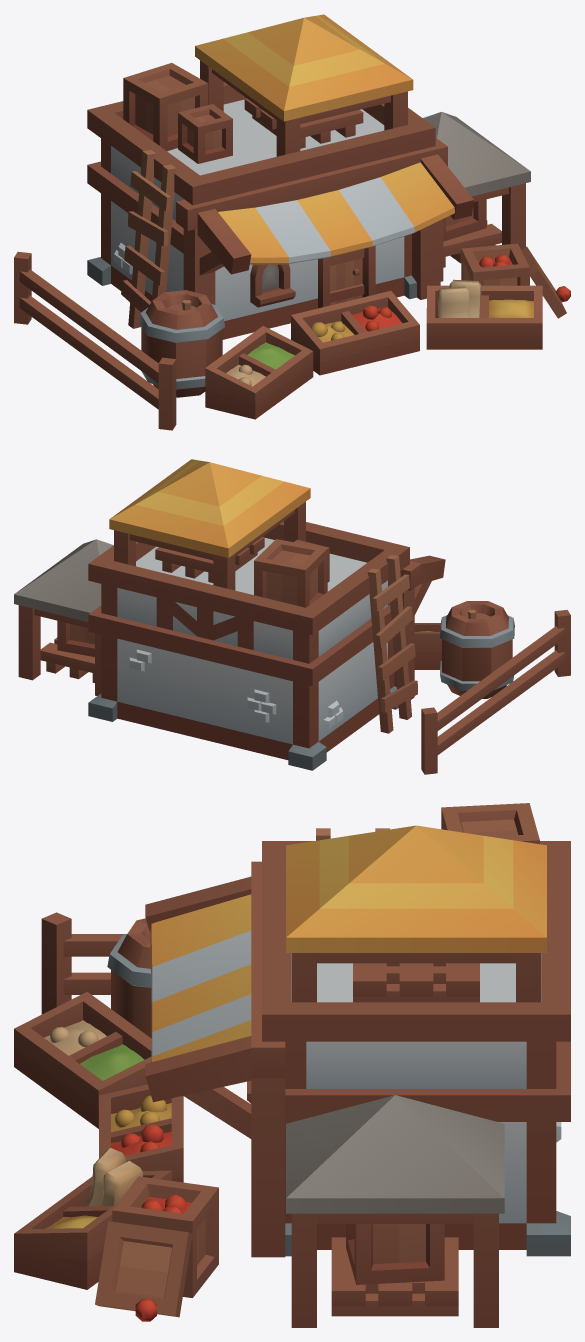
Rendered from H_market_yellow.glb.
3 views of the same model, one above another, from view 1: azimuth 30°, elevation 25°; view 2: azimuth 150°, elevation 25°; view 3: azimuth 270°, elevation 25° (orthographic). The views are drawn at different scales.
Visible parts, largest first — view 1: building_market_yellow; view 2: building_market_yellow; view 3: building_market_yellow.
Part boxes in pixels (box(x1,y1,x2,y2)): building_market_yellow: box(14, 14, 570, 430); building_market_yellow: box(14, 459, 570, 774); building_market_yellow: box(14, 803, 570, 1327).
Size of the model in its own units: 1.8 by 0.9818 by 1.32.
